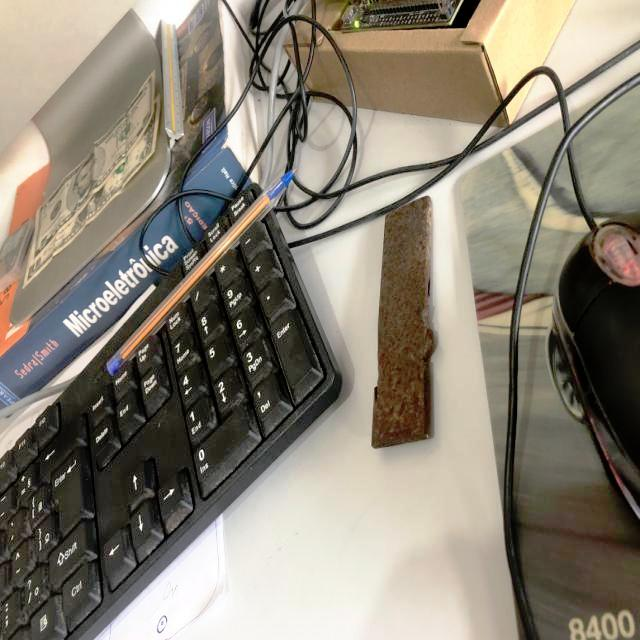Corrosion: (370, 194, 433, 451)
